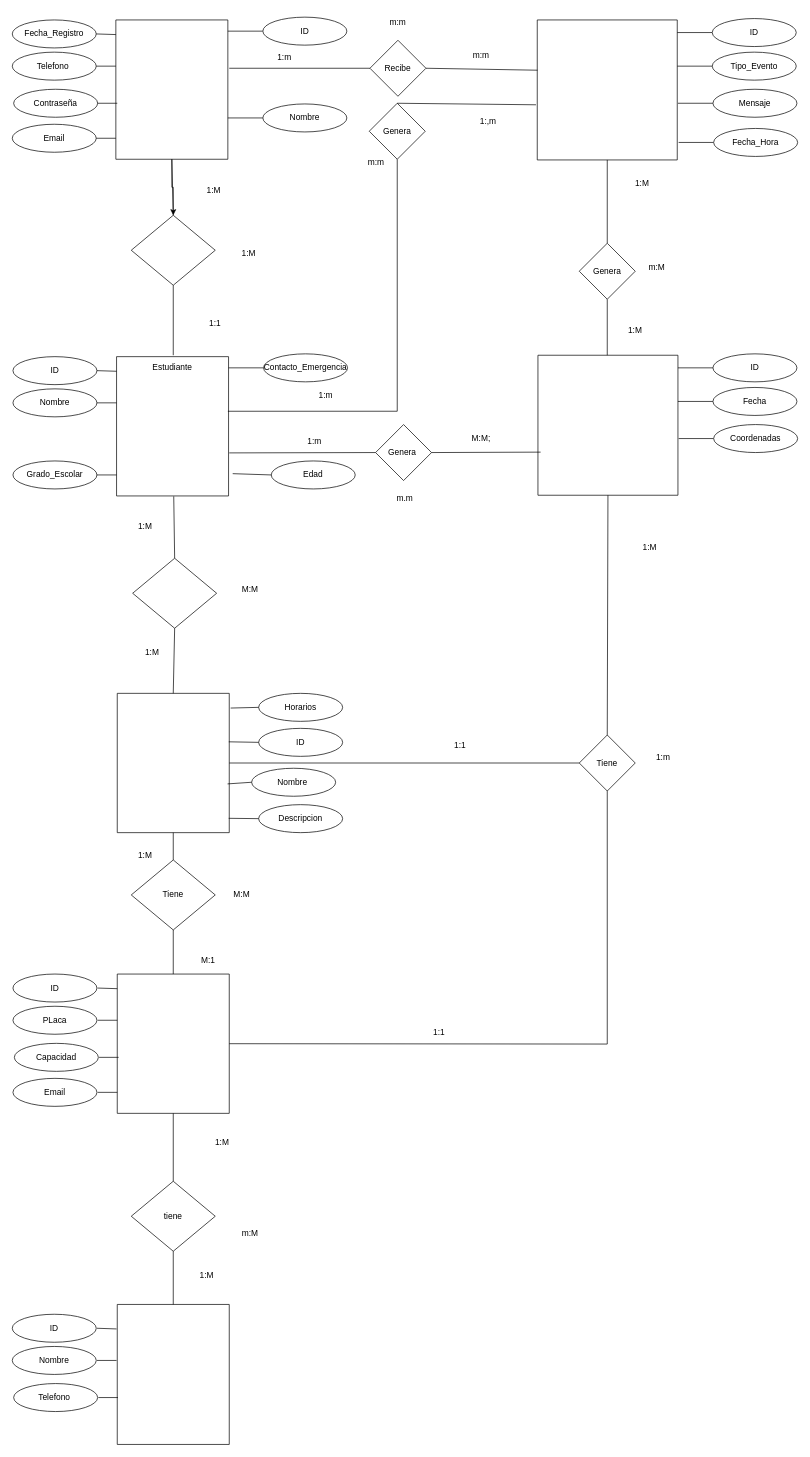
This 810x1457 diagram has some shape labels left out. The box of each missing label's shape, as (x1, y1, x2, y2) in pixels:
Asignado: (132, 558, 217, 628)
Autobus: (117, 973, 229, 1113)
Conductor: (117, 1304, 229, 1444)
Notificaciones: (537, 19, 677, 160)
Registra/Rastrea: (131, 215, 215, 285)
Ruta: (117, 693, 229, 833)
trayectos: (537, 355, 678, 495)
Usuario: (115, 19, 228, 159)
